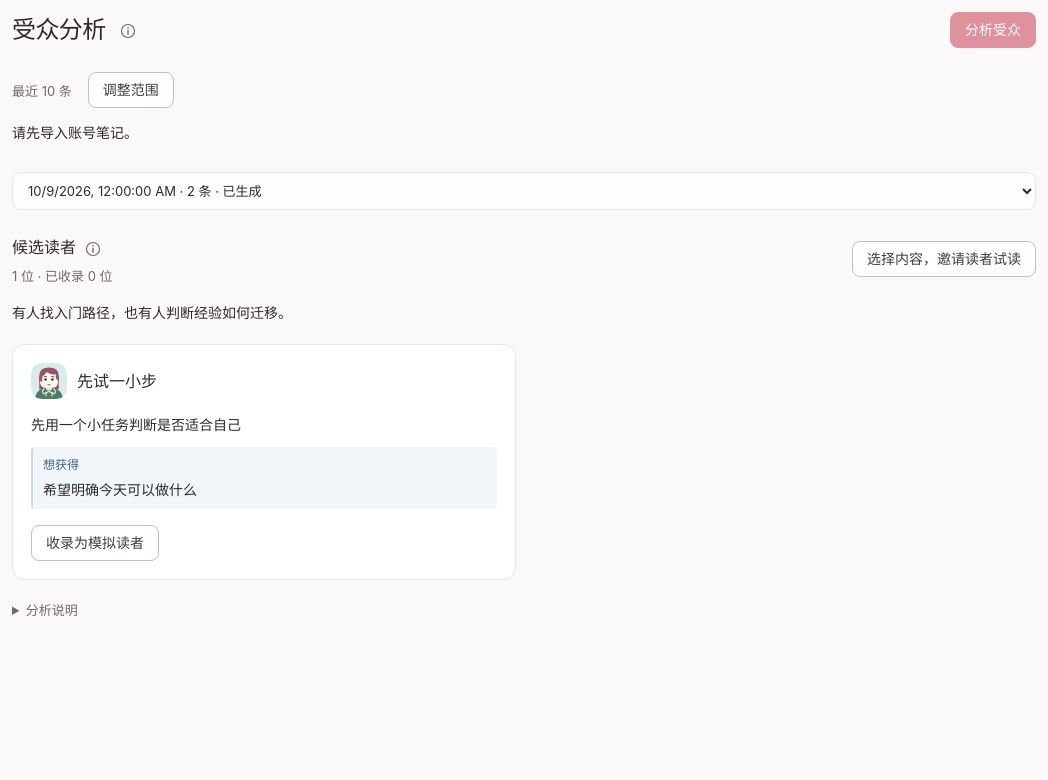
Test case: keeps prewritten readers within the existing history and waits for manual adoption
Expected: the text "人工编排" is not shown
Click the button named "记录来源说明". click: (93, 249)
box: [80,236,106,262]
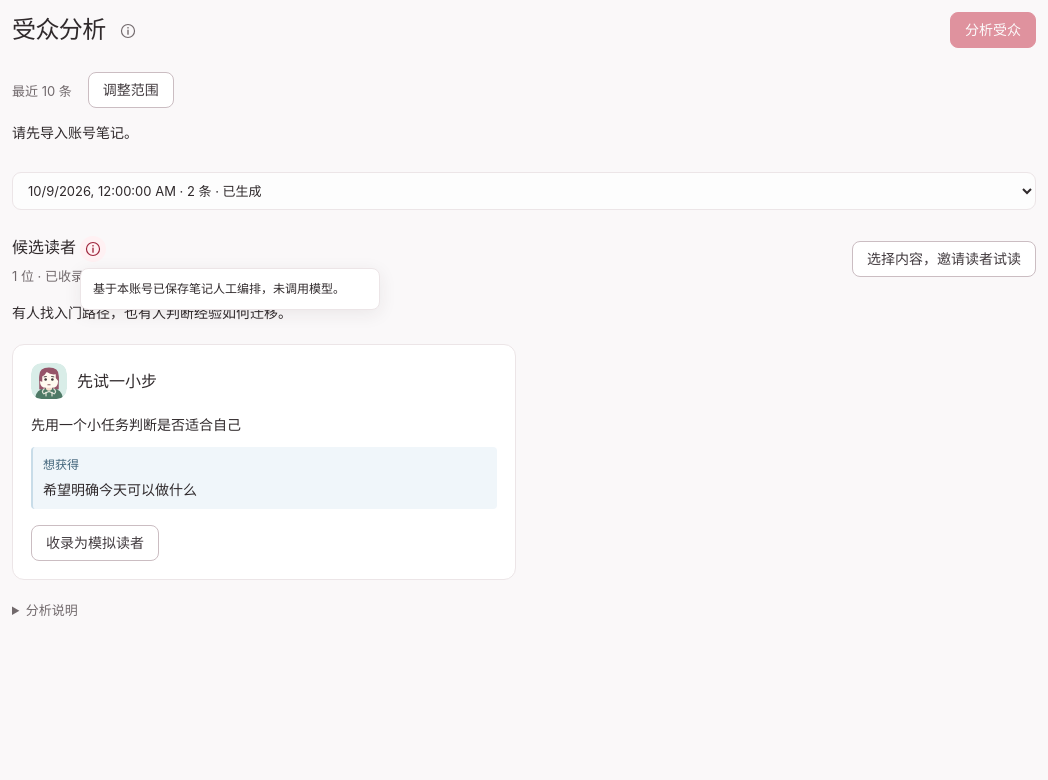
Expected: the message shows "已收录 0 位", [12,266,112,285]
Expected: the tooltip reads "基于本账号已保存笔记人工编排，未调用模型。", [93,281,345,296]
Click the button "收录为模拟读者". click: (95, 543)
box: [31,525,159,561]
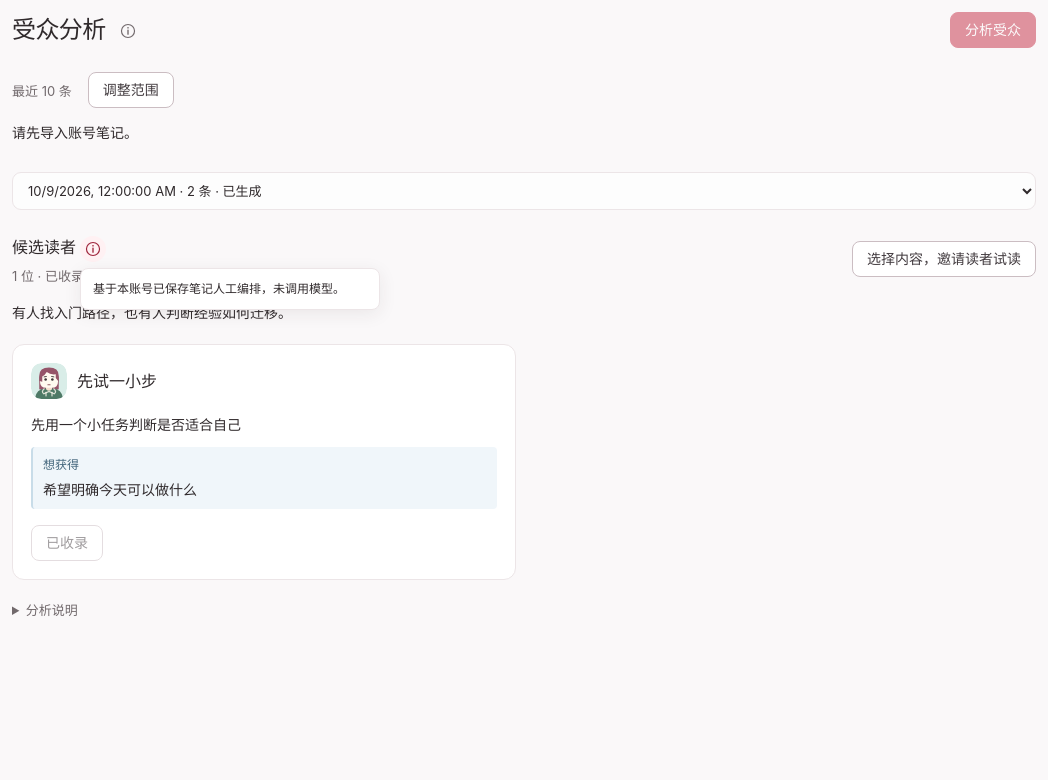
Expected: the button "已收录" is disabled, [31,525,103,561]
